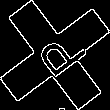P_SW: (24, 25, 86, 85)
